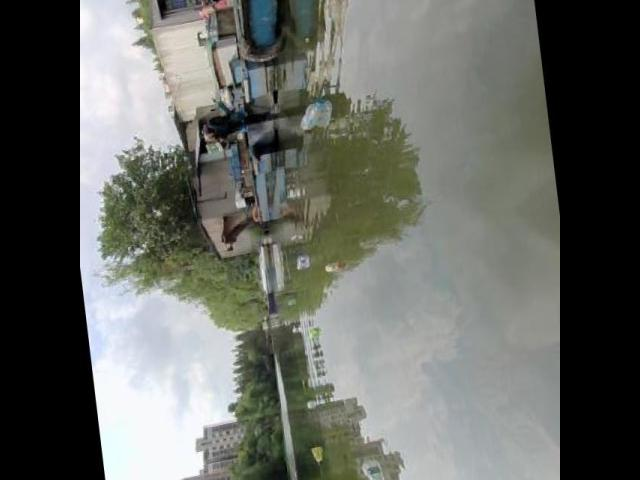Bottle: (355, 449, 397, 480), (298, 94, 326, 132), (308, 320, 324, 346), (324, 256, 344, 274), (294, 252, 310, 274)
